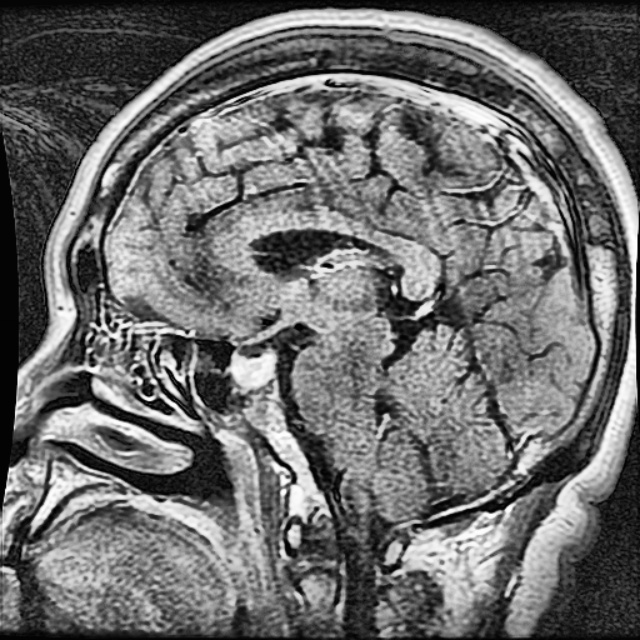Pituitary: (230, 353, 273, 388)
